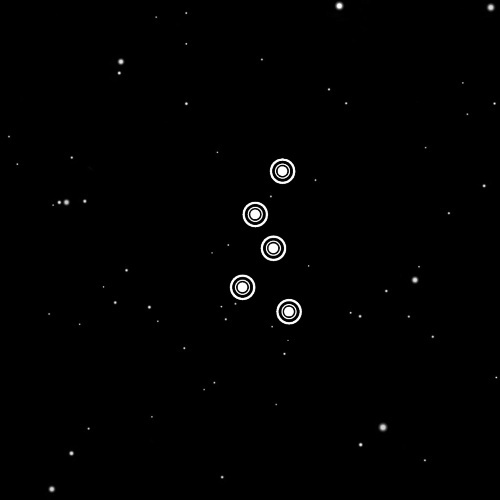cassiopeia: (221, 146, 311, 330)
